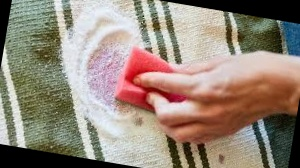wine: (90, 49, 132, 97)
